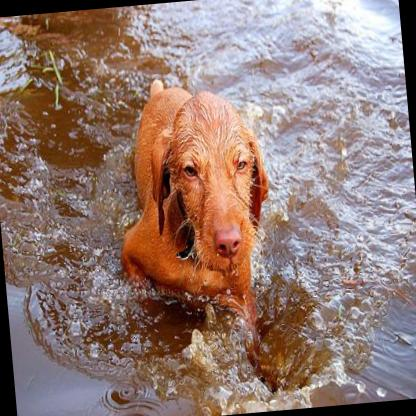vizsla: (104, 68, 277, 318)
